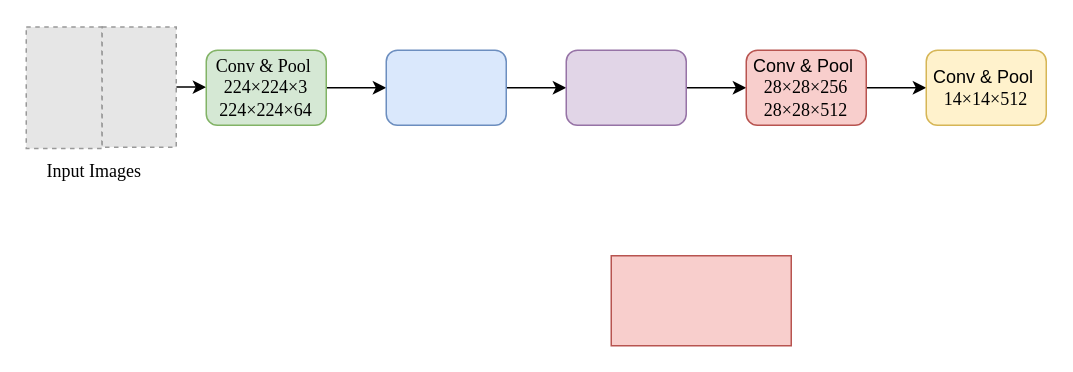
This 1073x372 diagram has some shape labels left out. Grey dashed boxes stand in for pictures. Each missing label, with the centre of its shape:
"Conv & Pool 112×112×64 112×112×128" goes at [445,87].
"Conv & Pool 56×56×128 56×56×256" goes at [625,87].
